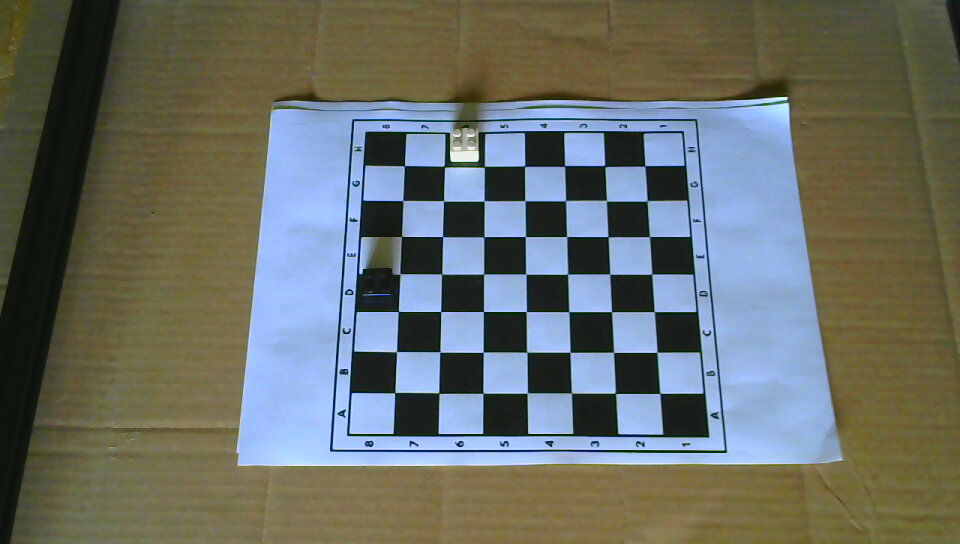bp: (360, 265, 395, 308)
wp: (446, 126, 481, 166)
